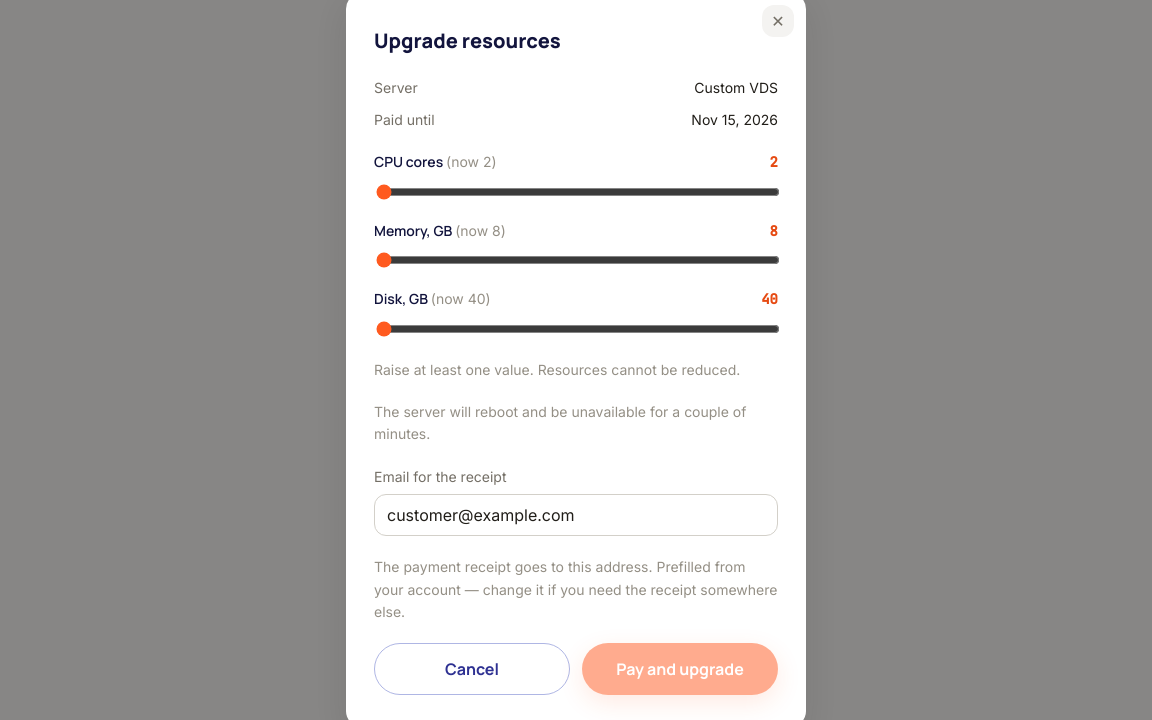
Scenario: UpgradeModal › offers to pay from the balance when it covers the surcharge
Set the slider named "Memory, GB" to "16": (439, 260) [376,252,780,268]
(page scrolled)
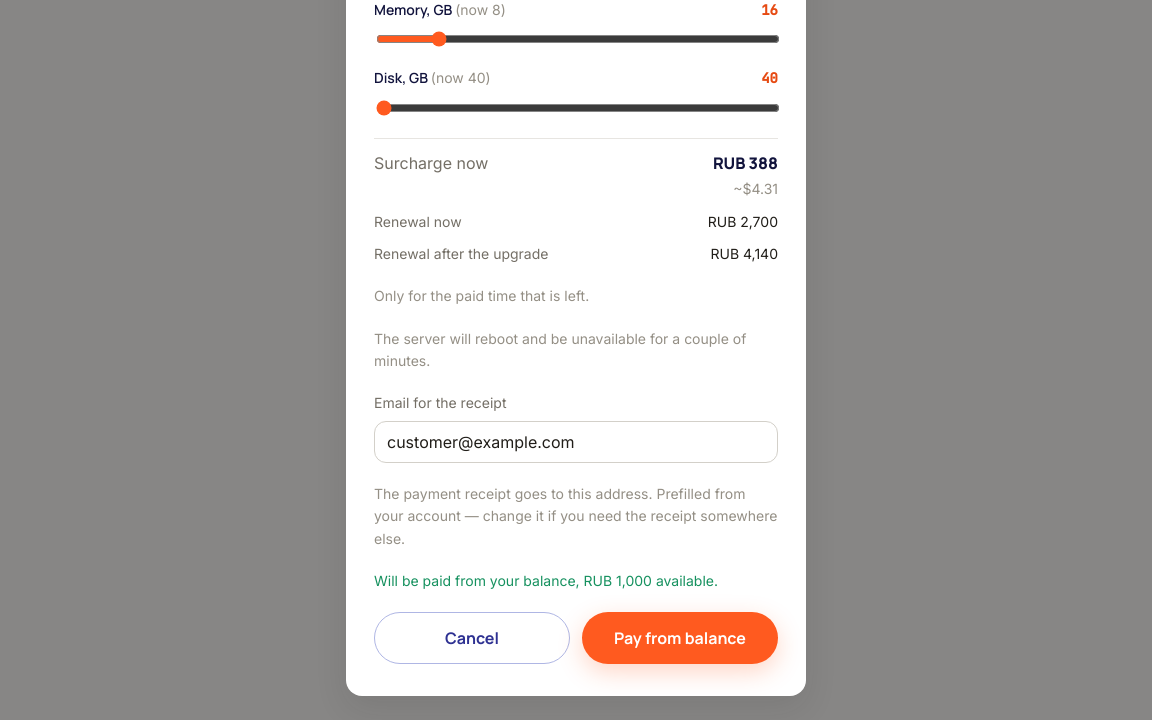
Check: the button "Pay from balance" is shown, box [582,612,778,664]
